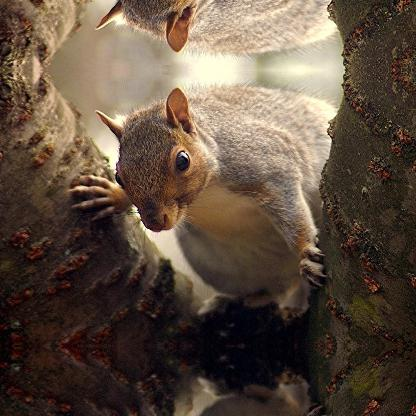Squirrel: (64, 80, 340, 324), (64, 0, 340, 59)
